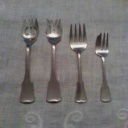fork: (43, 15, 63, 106)
